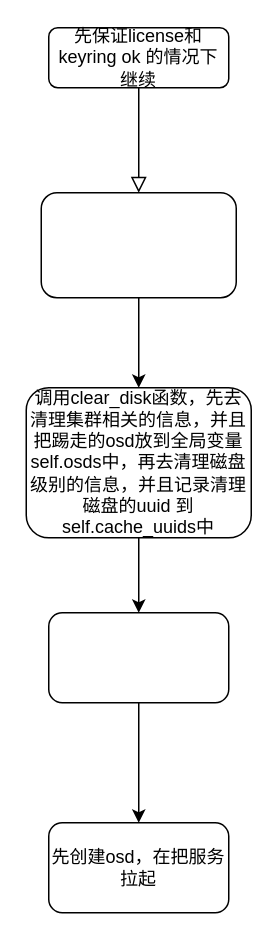
This 278x939 diagram has some shape labels left out. Here are the shapes that lost their labels. From the top down, the box of each, then its label:
(40, 191, 236, 298): 根据传递条件筛选到不同队列中去，没有osd的放到creates里面，有osd的放到ups里面
(47, 611, 229, 703): 判断容量，在license 允许的情况下继续进行
